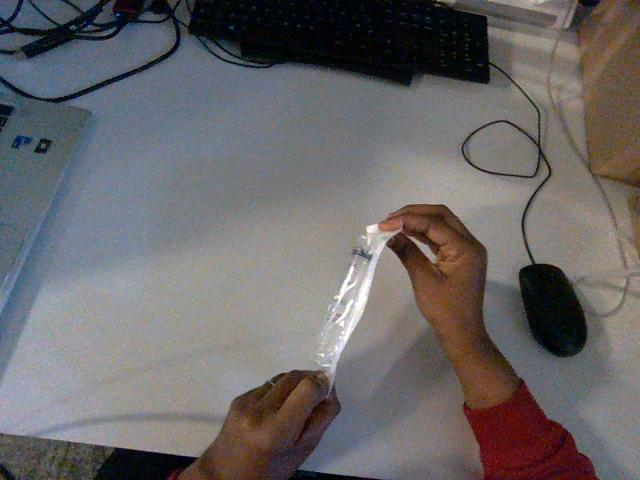syringe: (313, 224, 399, 383)
